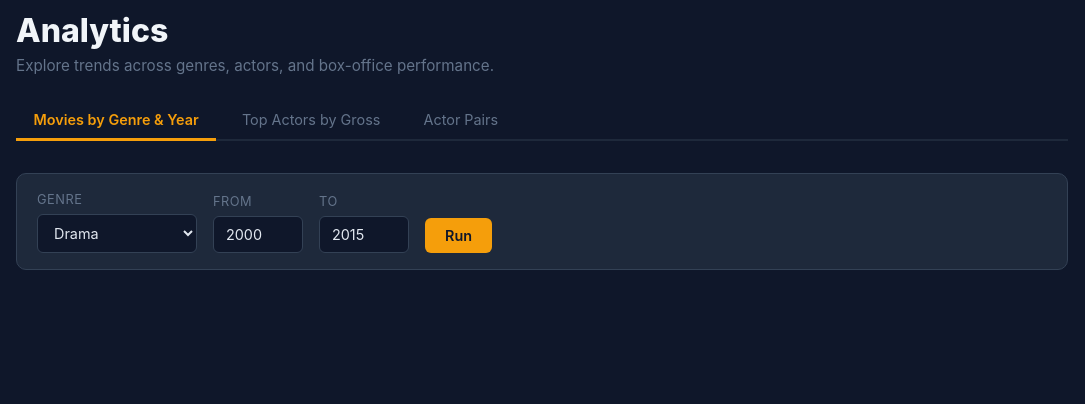
Scenario: pages › shows analytics tab errors
Click the button "Run": click(458, 235) [425,218,492,253]
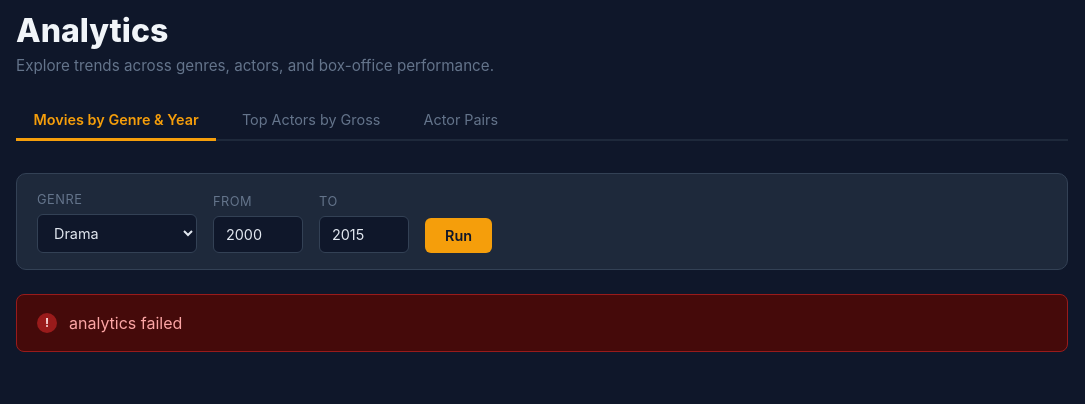
Result: the text "analytics failed" is shown at [69,311,182,335]
Click the button "Top Actors by Gross": click(311, 121) [224,102,398,141]
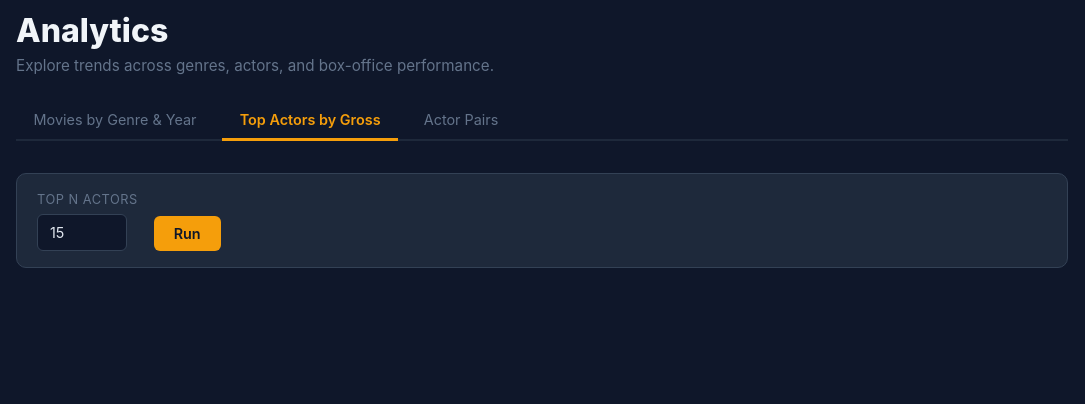
Click the button "Run": click(187, 233) [154,216,221,251]
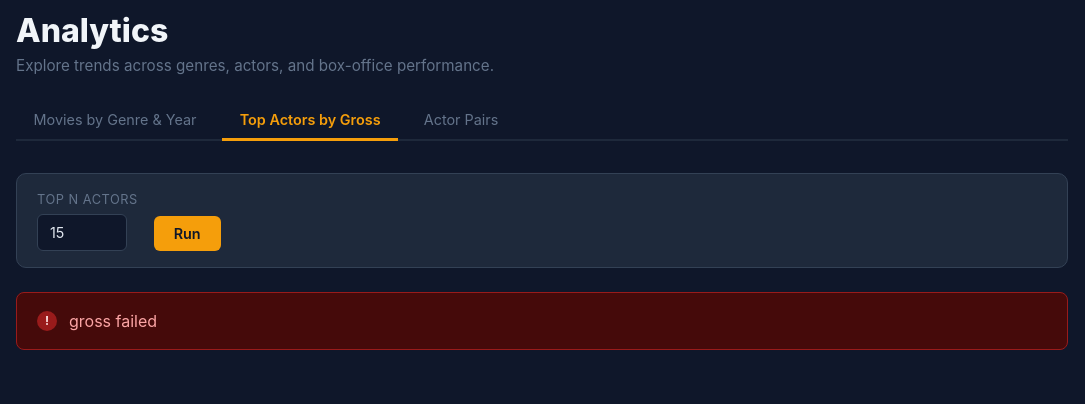
Result: the text "gross failed" is shown at [69,309,157,333]
Click the button "Actor Pairs": click(461, 121) [406,102,516,141]
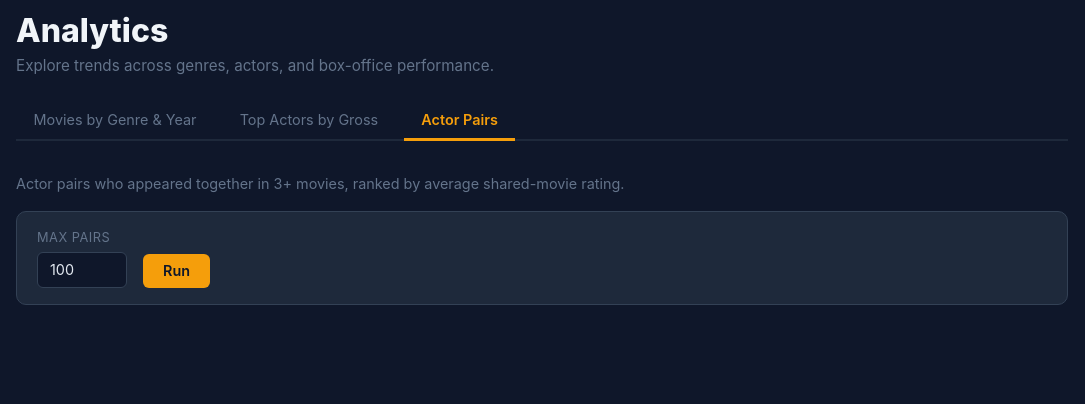
Click the button "Run": click(176, 271) [143,254,210,288]
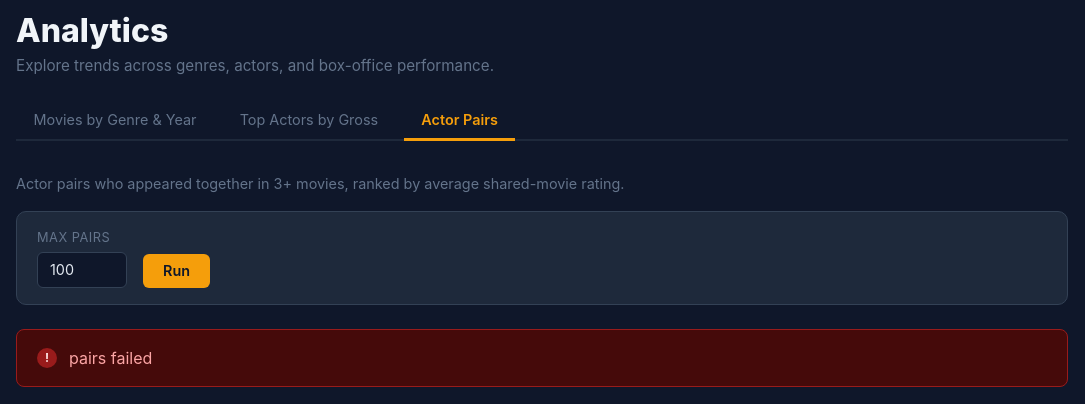
Result: the text "pairs failed" is shown at [69,346,152,370]
